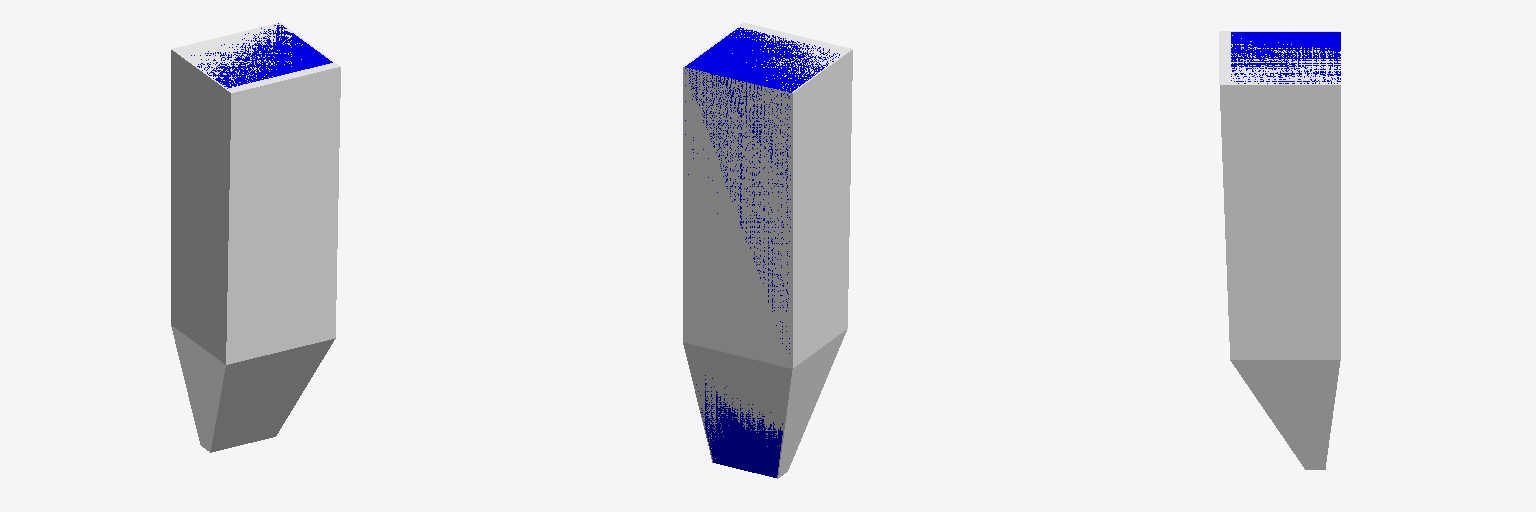
File: interceptor_frigate.obj
The picture shows the model from 3 angles: view 1: azimuth 30°, elevation 25°; view 2: azimuth 150°, elevation 25°; view 3: azimuth 270°, elevation 25°; orthographic projection.
Visible parts, largest first — view 1: Stealth, coll_mesh; view 2: Stealth, coll_mesh; view 3: Stealth, coll_mesh.
Boxes of the visible parts, x1=… form: Stealth: x1=171, y1=22, x2=340, y2=452; coll_mesh: x1=191, y1=23, x2=332, y2=88; Stealth: x1=683, y1=22, x2=852, y2=478; coll_mesh: x1=685, y1=27, x2=839, y2=477; Stealth: x1=1219, y1=31, x2=1340, y2=469; coll_mesh: x1=1231, y1=32, x2=1340, y2=83.
Size of the model in its own units: 32.48 by 112 by 31.05.